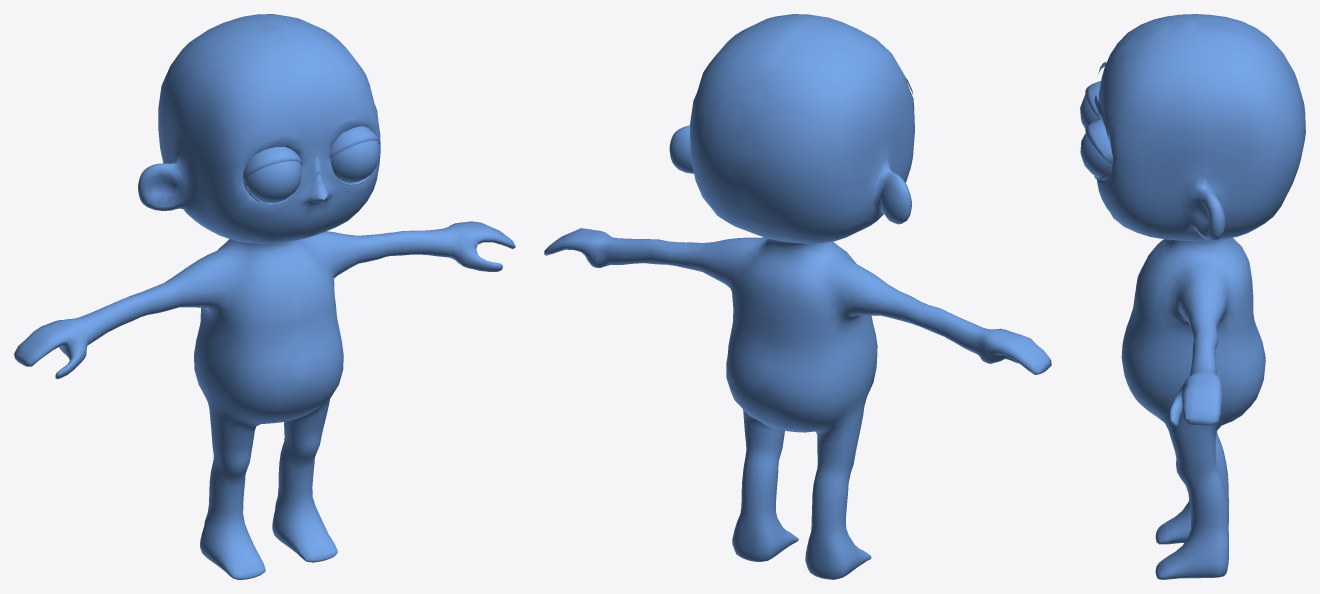
Rendered from BodyNude.fbx.
The picture shows the model from 3 angles, left to right: view 1: azimuth 30°, elevation 25°; view 2: azimuth 150°, elevation 25°; view 3: azimuth 270°, elevation 25°; orthographic projection.
Visible parts, largest first — view 1: Retopology.WithMirrorApply, Retopology.WithMirrorApply.001, Retopology.WithMirrorApply.002, Retopology.WithMirrorApply.003, Ojos.001, Ojos.002, Parpado_Sup_R, Parpado_Sup_R.001; view 2: Retopology.WithMirrorApply.001, Retopology.WithMirrorApply, Retopology.WithMirrorApply.003, Retopology.WithMirrorApply.002; view 3: Retopology.WithMirrorApply.001, Retopology.WithMirrorApply, Retopology.WithMirrorApply.002, Retopology.WithMirrorApply.003, Ojos.002, Parpado_Sup_R.001, Ojos.001, Parpado_Sup_R.
Boxes of the visible parts, x1=… form: Retopology.WithMirrorApply: x1=78, y1=229, x2=454, y2=533; Retopology.WithMirrorApply.001: x1=138, y1=14, x2=380, y2=247; Retopology.WithMirrorApply.002: x1=200, y1=505, x2=337, y2=579; Retopology.WithMirrorApply.003: x1=14, y1=221, x2=515, y2=378; Ojos.001: x1=243, y1=161, x2=301, y2=203; Ojos.002: x1=330, y1=126, x2=379, y2=182; Parpado_Sup_R: x1=243, y1=146, x2=302, y2=178; Parpado_Sup_R.001: x1=329, y1=126, x2=379, y2=158; Retopology.WithMirrorApply.001: x1=669, y1=14, x2=914, y2=252; Retopology.WithMirrorApply: x1=607, y1=237, x2=982, y2=548; Retopology.WithMirrorApply.003: x1=544, y1=228, x2=1051, y2=374; Retopology.WithMirrorApply.002: x1=732, y1=518, x2=871, y2=579; Retopology.WithMirrorApply.001: x1=1096, y1=14, x2=1305, y2=246; Retopology.WithMirrorApply: x1=1121, y1=237, x2=1265, y2=545; Retopology.WithMirrorApply.002: x1=1155, y1=503, x2=1228, y2=579; Retopology.WithMirrorApply.003: x1=1169, y1=367, x2=1222, y2=426; Ojos.002: x1=1080, y1=130, x2=1110, y2=177; Parpado_Sup_R.001: x1=1085, y1=119, x2=1112, y2=163; Ojos.001: x1=1080, y1=94, x2=1097, y2=128; Parpado_Sup_R: x1=1085, y1=81, x2=1100, y2=116.
Bounding box in the file's own units: 262 × 271 × 104.
